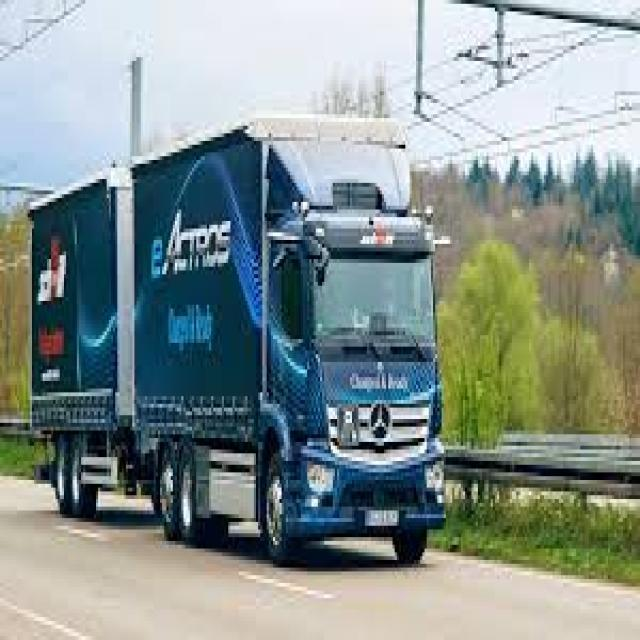covered: (23, 106, 450, 564)
